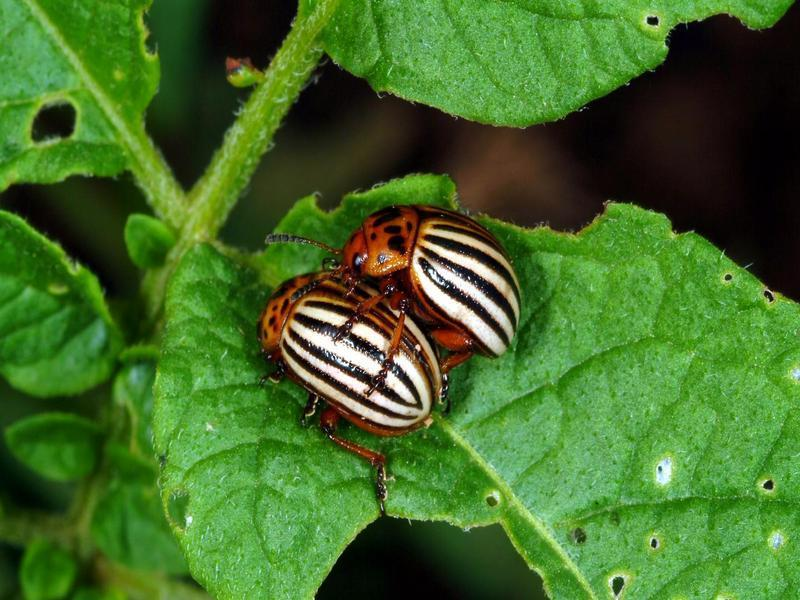hrosc: (247, 252, 428, 438), (339, 183, 541, 349)
